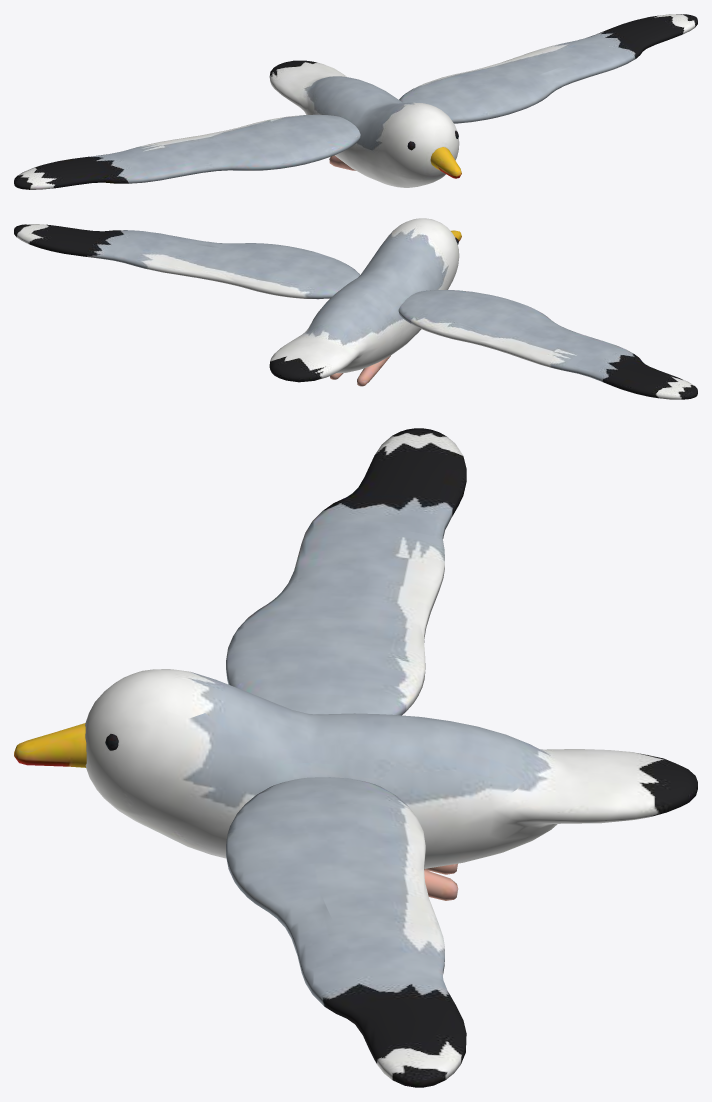
The model's file is seagull.glb.
3 renders of one model, top to bottom at view 1: azimuth 30°, elevation 25°; view 2: azimuth 150°, elevation 25°; view 3: azimuth 270°, elevation 25°, orthographic. The views are drawn at different scales.
Parts seen in each view (by area): view 1: seagull, wing0, wing1; view 2: seagull, wing1, wing0; view 3: seagull, wing1, wing0.
Part boxes in pixels (x1,y1,x2,y2): seagull: [269, 60, 461, 187]; wing0: [14, 114, 360, 189]; wing1: [399, 14, 697, 123]; seagull: [269, 218, 461, 386]; wing1: [14, 224, 359, 299]; wing0: [398, 290, 697, 399]; seagull: [14, 669, 697, 900]; wing1: [226, 777, 466, 1087]; wing0: [226, 428, 466, 715].
Bounding box in the file's own units: 0.9935 × 0.1498 × 0.4404.
1 material, 1 textured.
